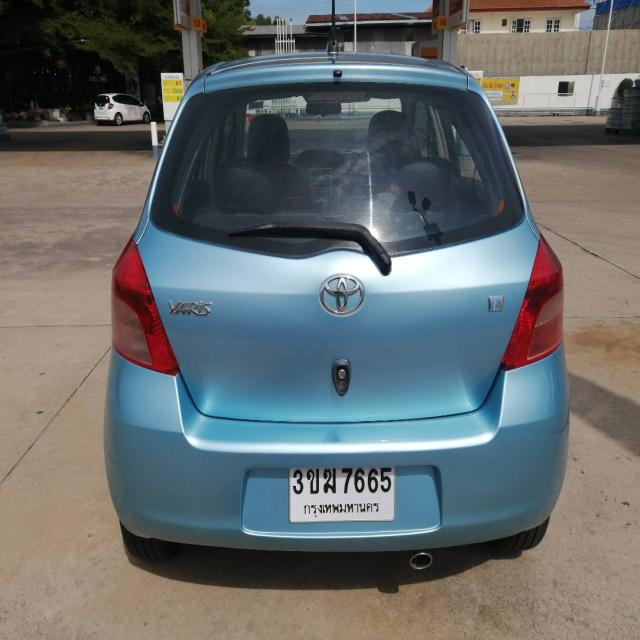license_plate: (288, 461, 398, 524)
